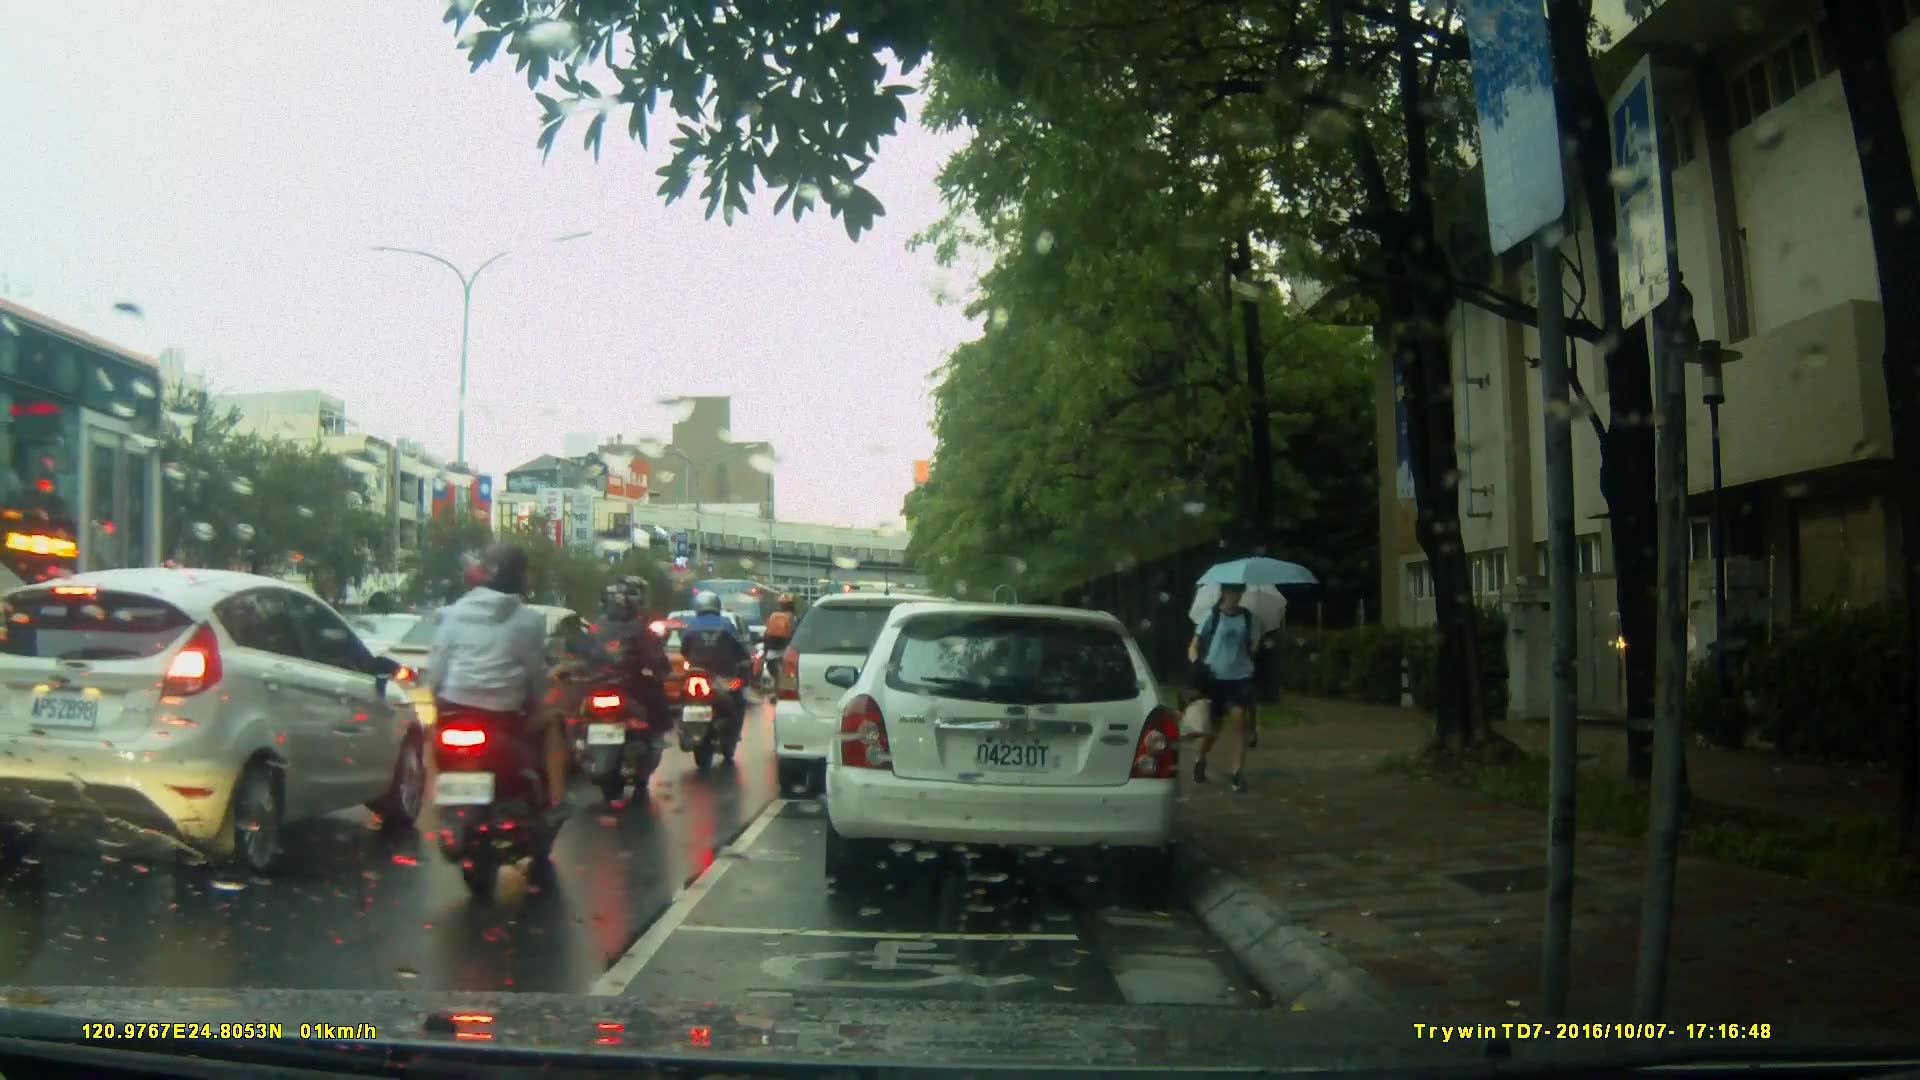pedestrian: (1189, 559, 1270, 804), (1237, 592, 1285, 747)
rider: (414, 526, 587, 903), (599, 584, 685, 802), (680, 586, 753, 766), (768, 590, 812, 754)
vehicle: (2, 566, 432, 883), (835, 594, 1194, 898), (1, 287, 180, 765), (776, 590, 1026, 784), (369, 602, 633, 773), (601, 620, 727, 720), (687, 577, 804, 672)
